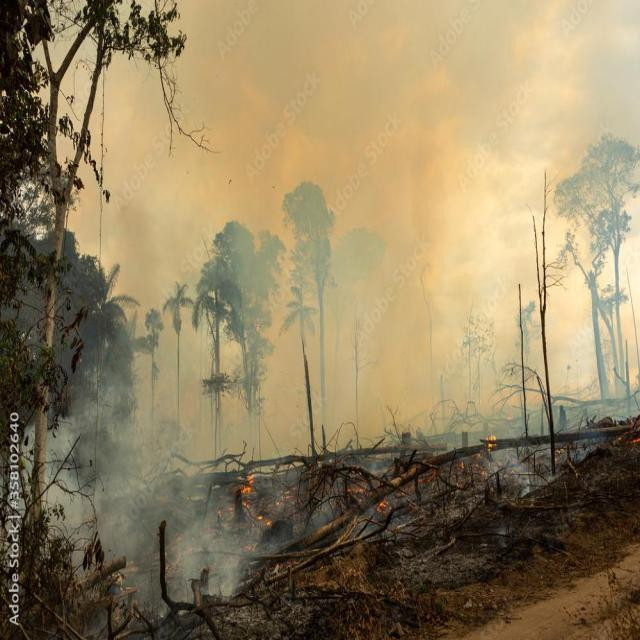Fire: (228, 471, 281, 524), (343, 479, 400, 524), (483, 430, 506, 466)
Smoke: (4, 4, 542, 456)
